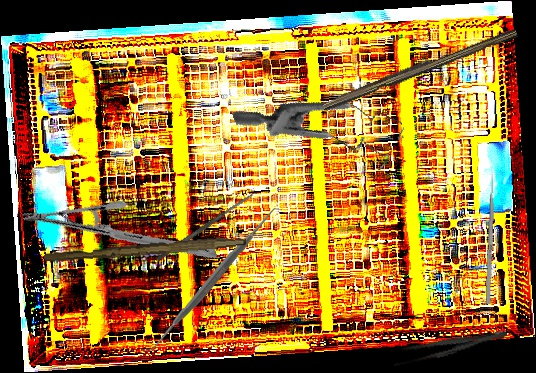Dressing Forceps: (390, 323, 509, 369)
Needle Holder: (21, 158, 218, 312)
Pusher: (485, 166, 496, 305)
Scalpel Handle: (320, 22, 519, 115), (43, 231, 247, 267)
Spatula Surgical: (141, 205, 283, 355), (154, 191, 256, 263)
Speculum: (231, 53, 416, 215)
